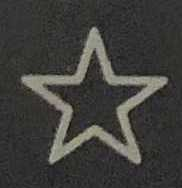star: (13, 17, 174, 175)
